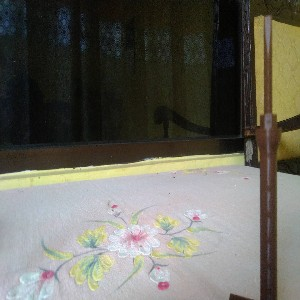obeng: (252, 14, 282, 300)
